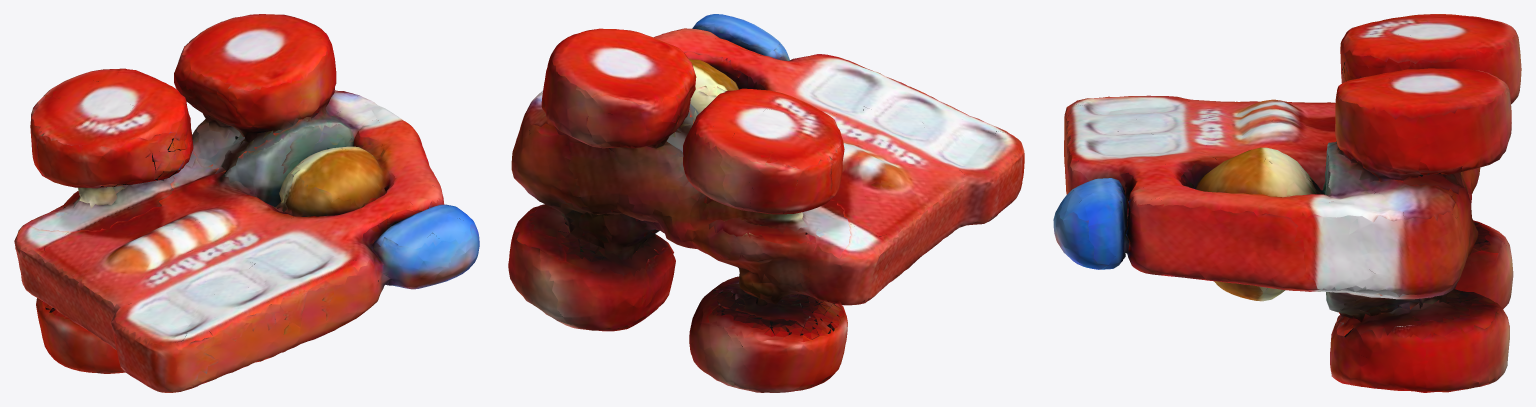
The model's file is fire_car.glb.
3 views of the same model, side by side, from view 1: azimuth 30°, elevation 25°; view 2: azimuth 150°, elevation 25°; view 3: azimuth 270°, elevation 25° (orthographic). The views are drawn at different scales.
Parts seen in each view (by area): view 1: world.200; view 2: world.200; view 3: world.200.
Part boxes in pixels (bbox=[...]): world.200: bbox=[14, 14, 479, 392]; world.200: bbox=[508, 14, 1024, 392]; world.200: bbox=[1053, 14, 1521, 392].
Size of the model in its own units: 0.9386 by 0.6731 by 0.9057.
Materials: 1 (1 with a texture image).
